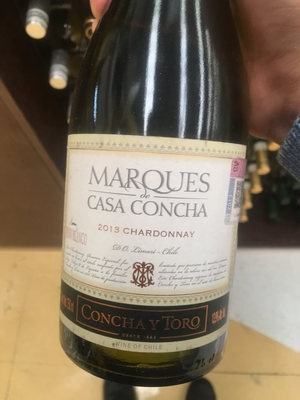marques de casa concha chardonnay: (55, 16, 253, 393)
